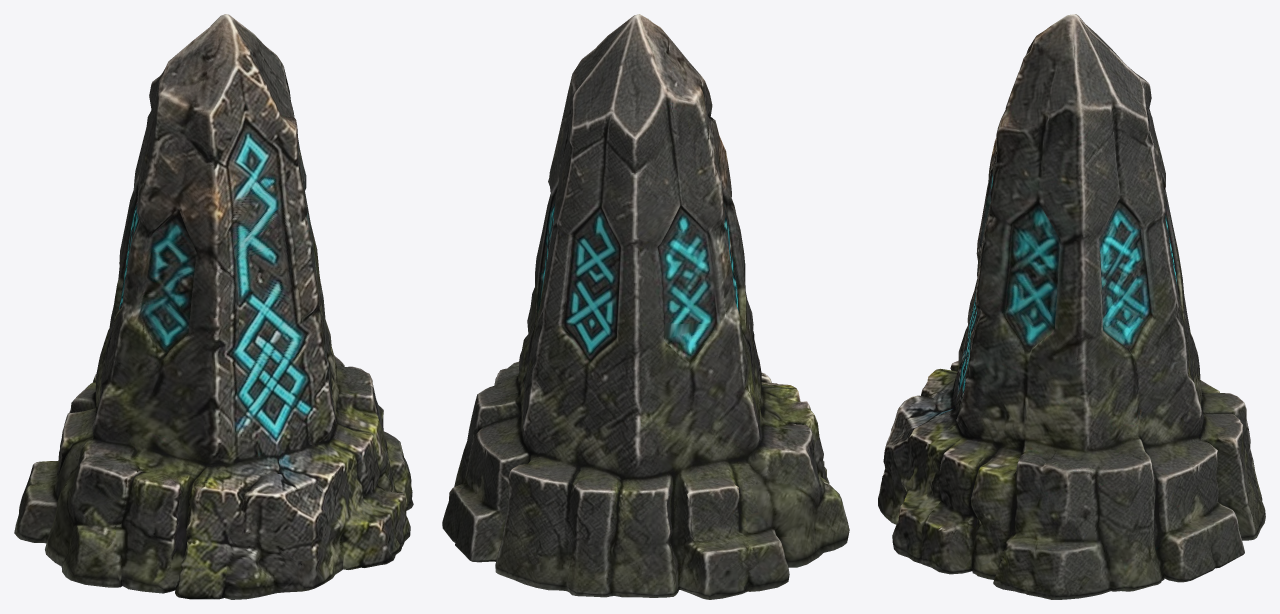
The model's file is rune_lantern.glb.
3 views of the same model, side by side, from view 1: azimuth 30°, elevation 25°; view 2: azimuth 150°, elevation 25°; view 3: azimuth 270°, elevation 25° (orthographic).
Parts seen in each view (by area): view 1: Mesh_0; view 2: Mesh_0; view 3: Mesh_0.
Part boxes in pixels (<box>): Mesh_0: <box>14,14,413,599</box>; Mesh_0: <box>442,14,849,599</box>; Mesh_0: <box>878,14,1265,599</box>.
Bounding box in the file's own units: 0.7109 × 0.9526 × 0.668.
1 material, 1 textured.
